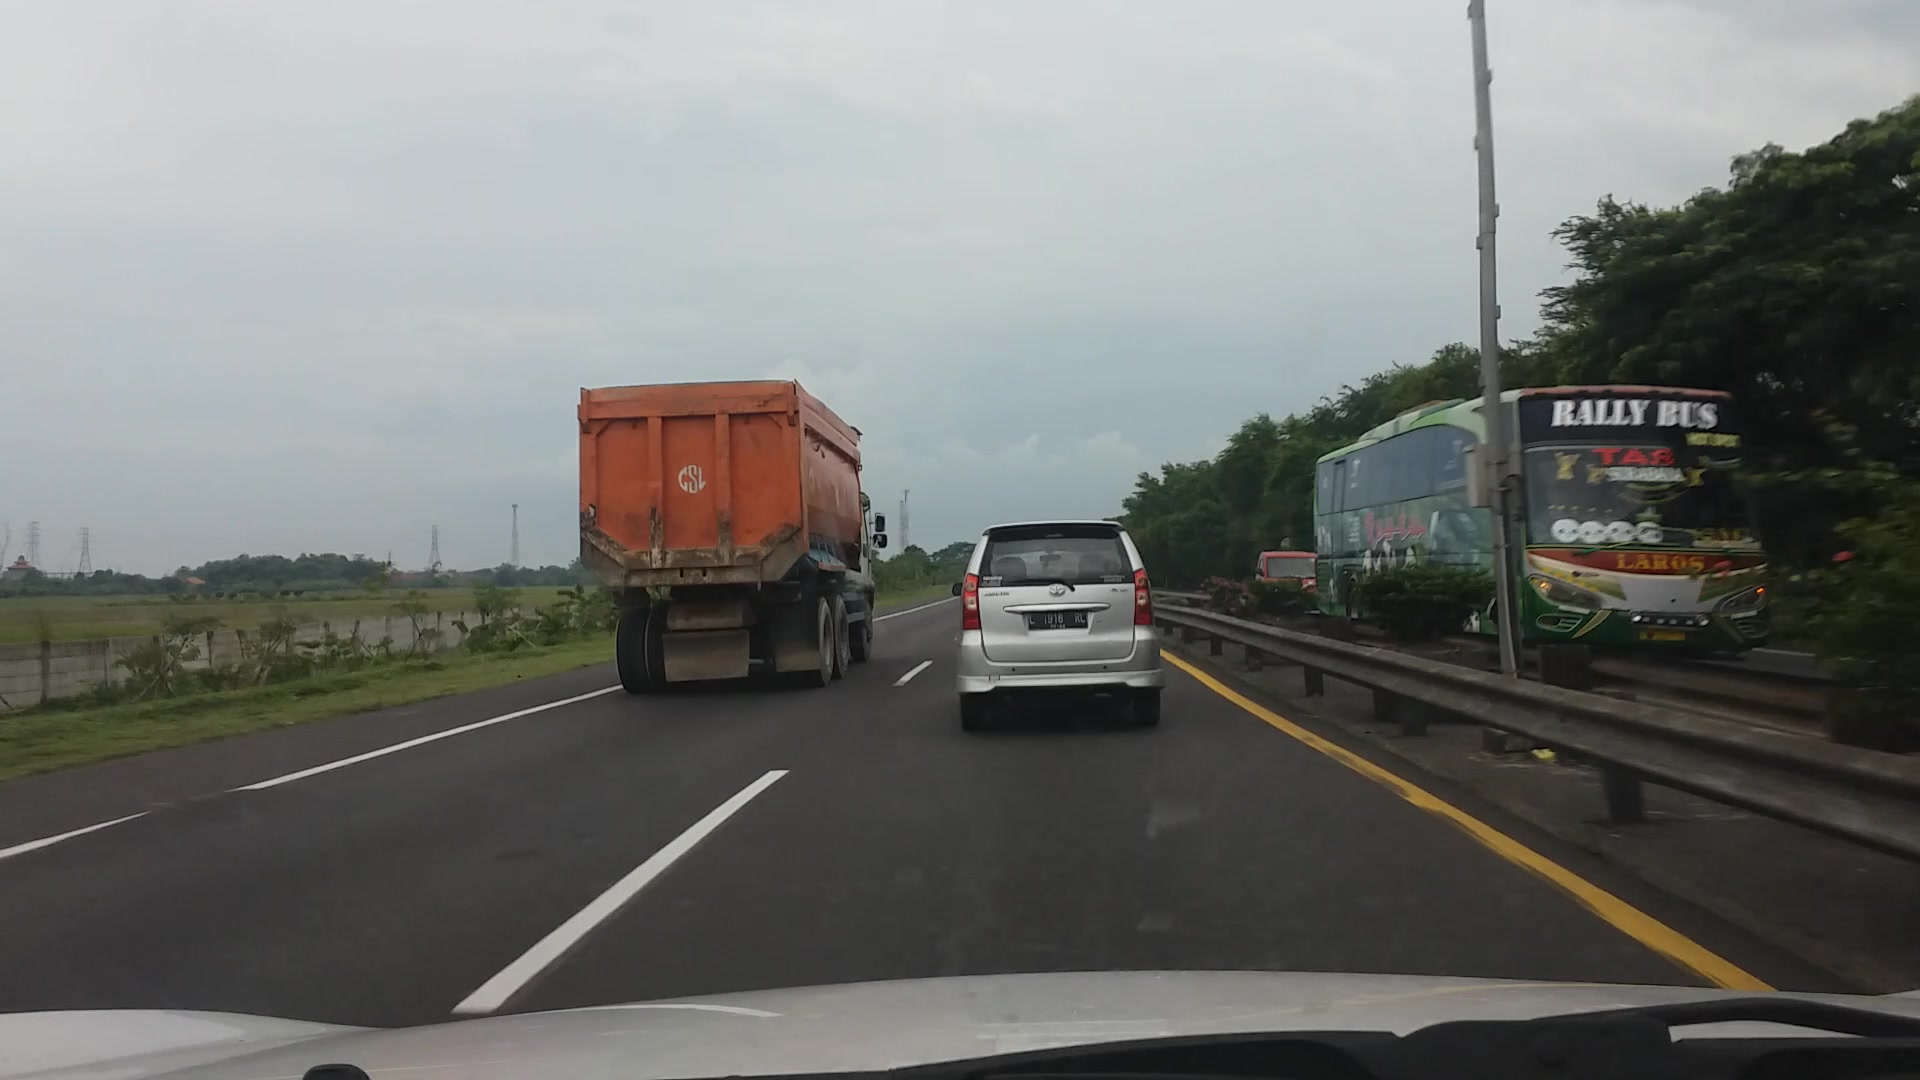plate_positive: (1027, 611, 1087, 629)
